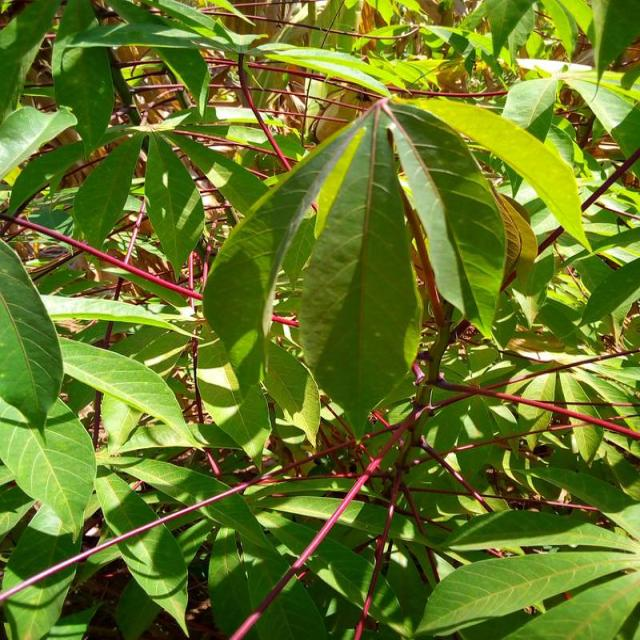cassava leaf: (202, 95, 509, 454), (297, 102, 423, 440)
